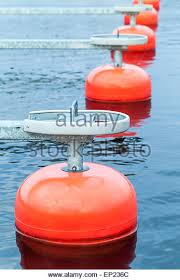buoy: (14, 164, 138, 248), (86, 62, 152, 105), (118, 24, 155, 51), (125, 6, 159, 24)
